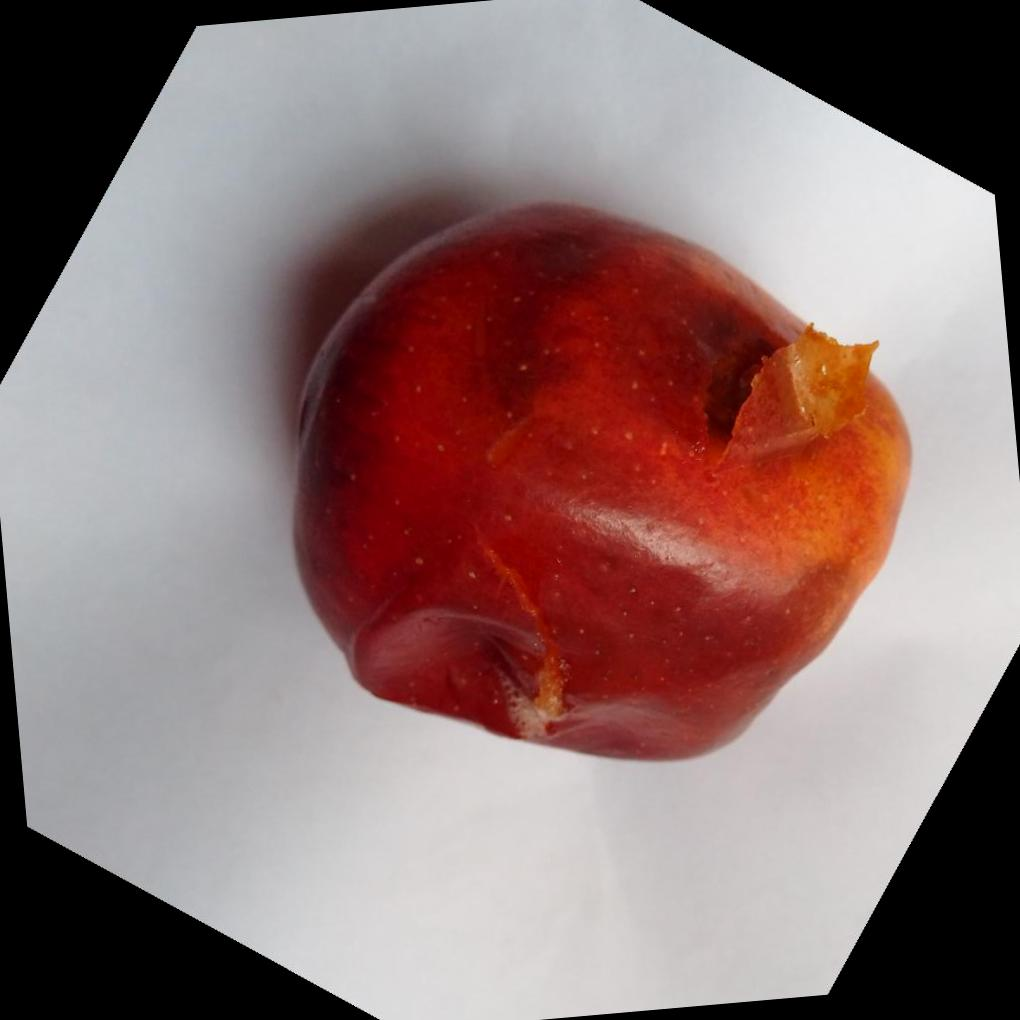FreshOrange: (288, 199, 909, 763)
